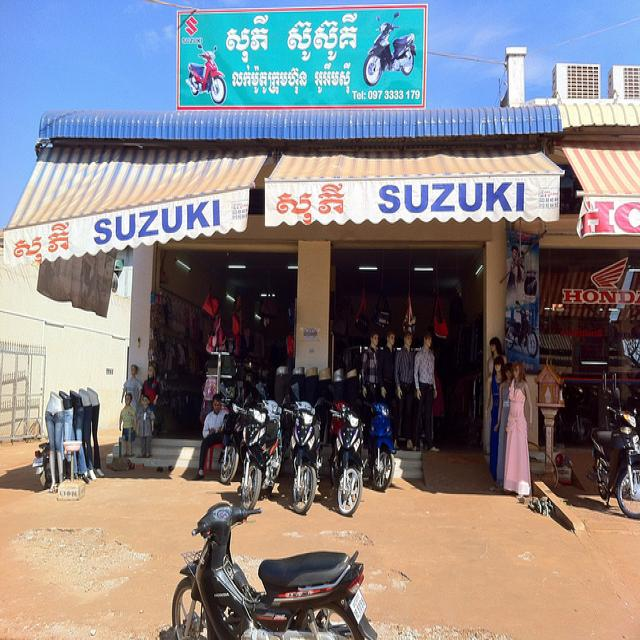motor: (171, 503, 377, 630), (585, 404, 640, 521), (232, 403, 282, 509), (285, 399, 323, 514), (328, 408, 368, 517), (365, 399, 396, 491)
